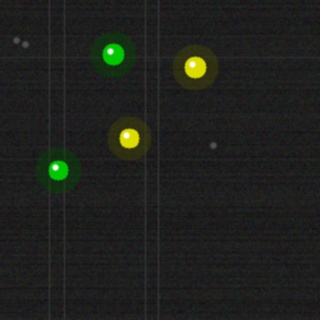green_normal: (100, 41, 126, 67), (46, 158, 70, 182)
yellow_warning: (182, 54, 208, 80), (117, 126, 141, 150)
